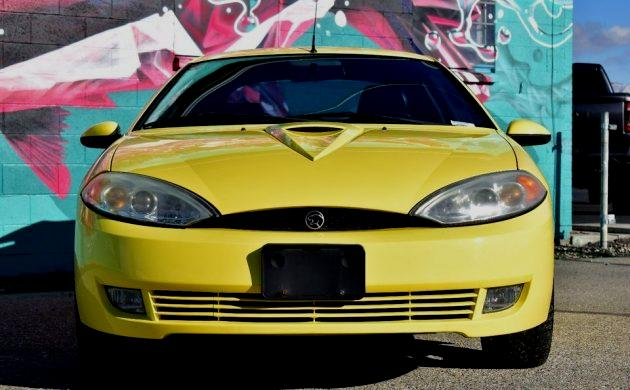Mercury: (296, 200, 333, 234)
